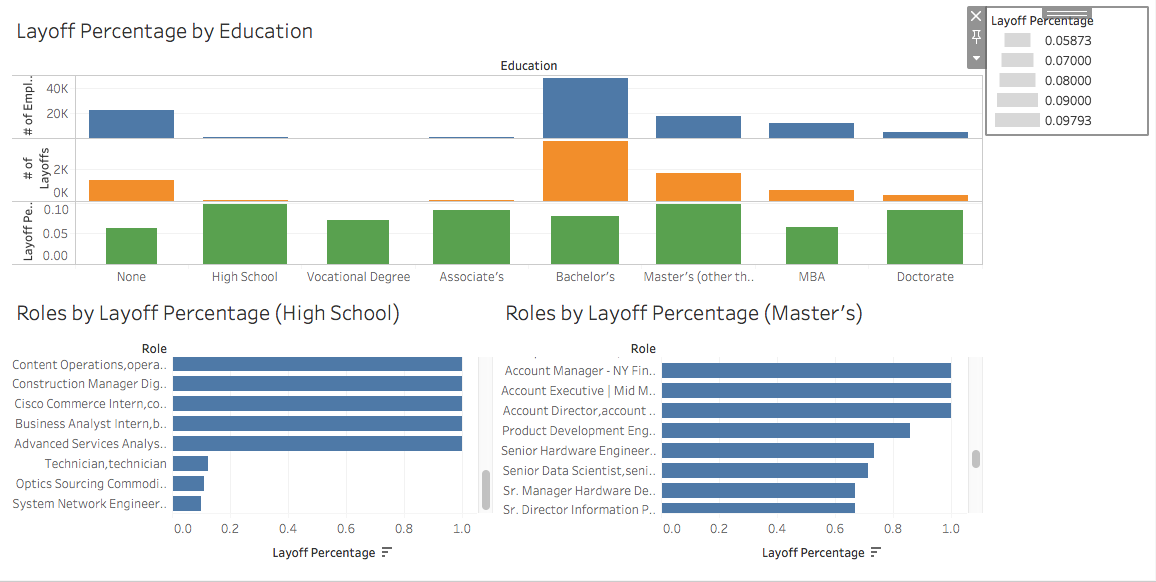

The dashboard page shown, as its layout file describes it:
{"tool":"tableau","page":{"name":"Dashboard 1","canvas":[1000,1000],"units":"permille","ordinal":0},"visuals":[{"type":"worksheet","title":"Layoff Percentage by Education","mark":"Automatic","rows":["Calculation_4376865565733720065","Calculation_4376865565733617664","Calculation_4376865565733797890"],"cols":["Education"],"box":[6.9,13.8,847.6,486.2]},{"type":"legend","title":"Layoff Percentage by Education","param":"[federated.1gu6t7k0ytzhnj13b99s401mjlvv].[usr:Calculation_4376865565733797890:qk","box":[854.5,13.8,138.5,217.2]},{"type":"worksheet","title":"Roles by Layoff Percentage (High School)","mark":"Automatic","rows":["Role"],"cols":["Calculation_4376865565733797890"],"box":[6.9,500,423.8,486.2]},{"type":"worksheet","title":"Roles by Layoff Percentage (Master's)","mark":"Automatic","rows":["Role"],"cols":["Calculation_4376865565733797890"],"box":[430.7,500,423.8,486.2]}]}

Visuals, with their boxes on the dashboard's canvas, which has no fixed pixel size, in thousandths of its width and height (x1, y1, x2, y2). These are canvas units, not pixel positions in the 1156x582 screenshot, which may show the page scaled, cropped or inside an application window:
"Layoff Percentage by Education" worksheet: left=7, top=14, right=854, bottom=500
"Layoff Percentage by Education" legend: left=854, top=14, right=993, bottom=231
"Roles by Layoff Percentage (High School)" worksheet: left=7, top=500, right=431, bottom=986
"Roles by Layoff Percentage (Master's)" worksheet: left=431, top=500, right=854, bottom=986
